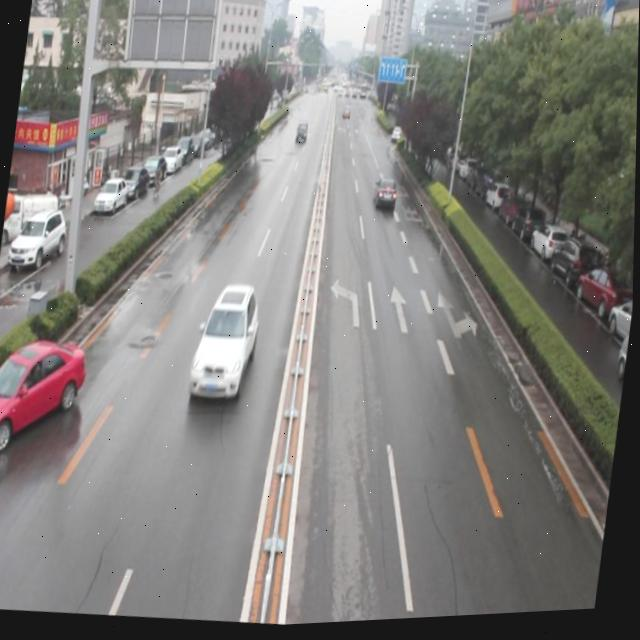car: (0, 329, 91, 463), (187, 279, 264, 409), (372, 174, 399, 213), (390, 129, 403, 146)
truck: (292, 120, 310, 149)
